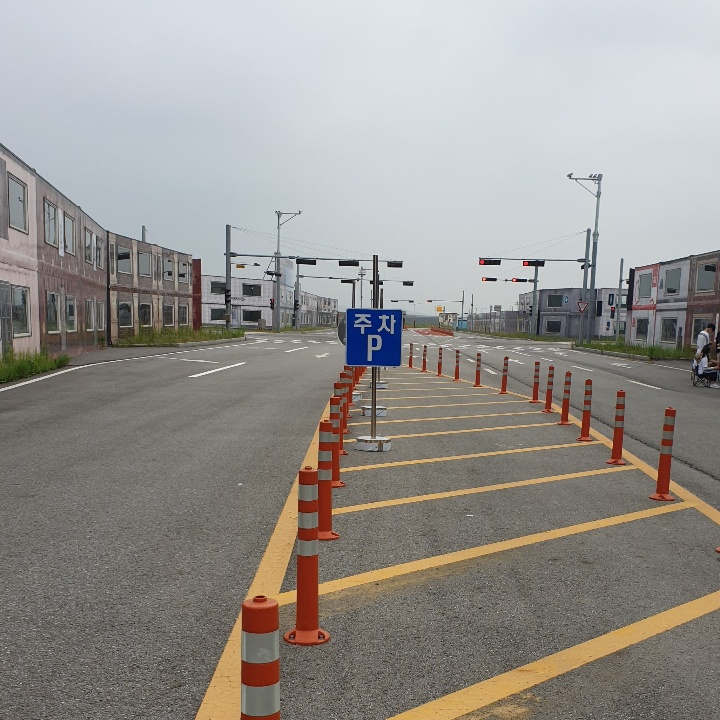parking: (362, 330, 384, 364)
